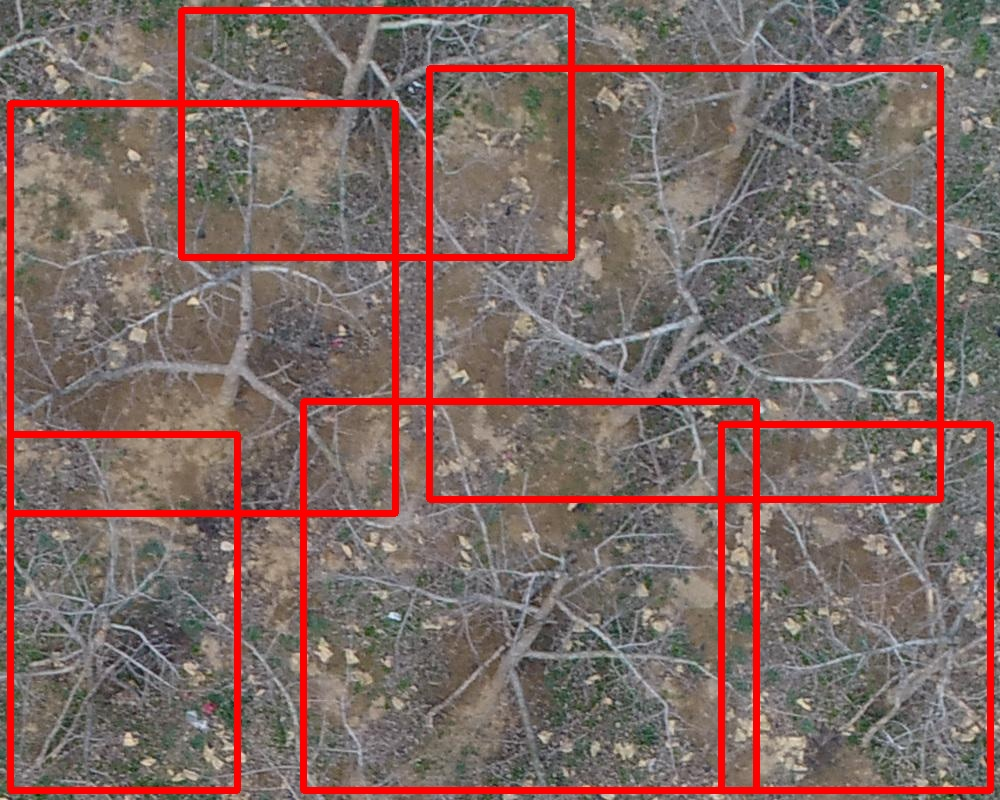apple: (429, 68, 940, 499), (303, 401, 756, 790), (10, 103, 395, 513), (721, 424, 990, 790), (181, 10, 571, 257), (10, 434, 237, 790)
